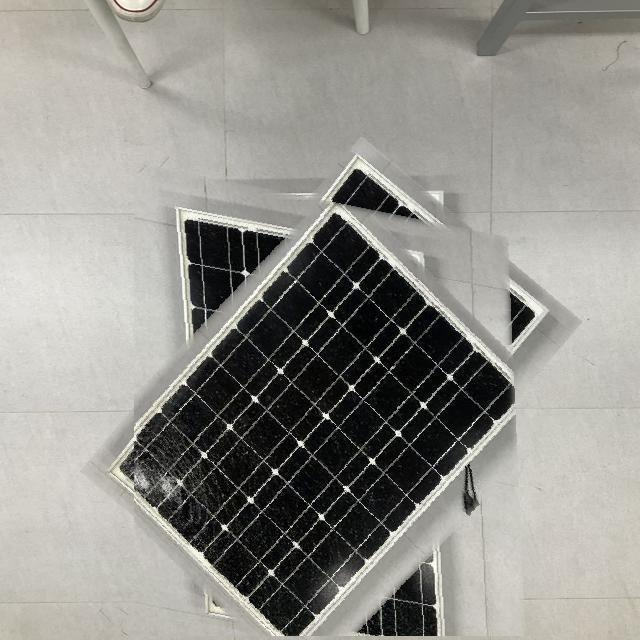Photovoltaic-Panel: (135, 158, 530, 636)
